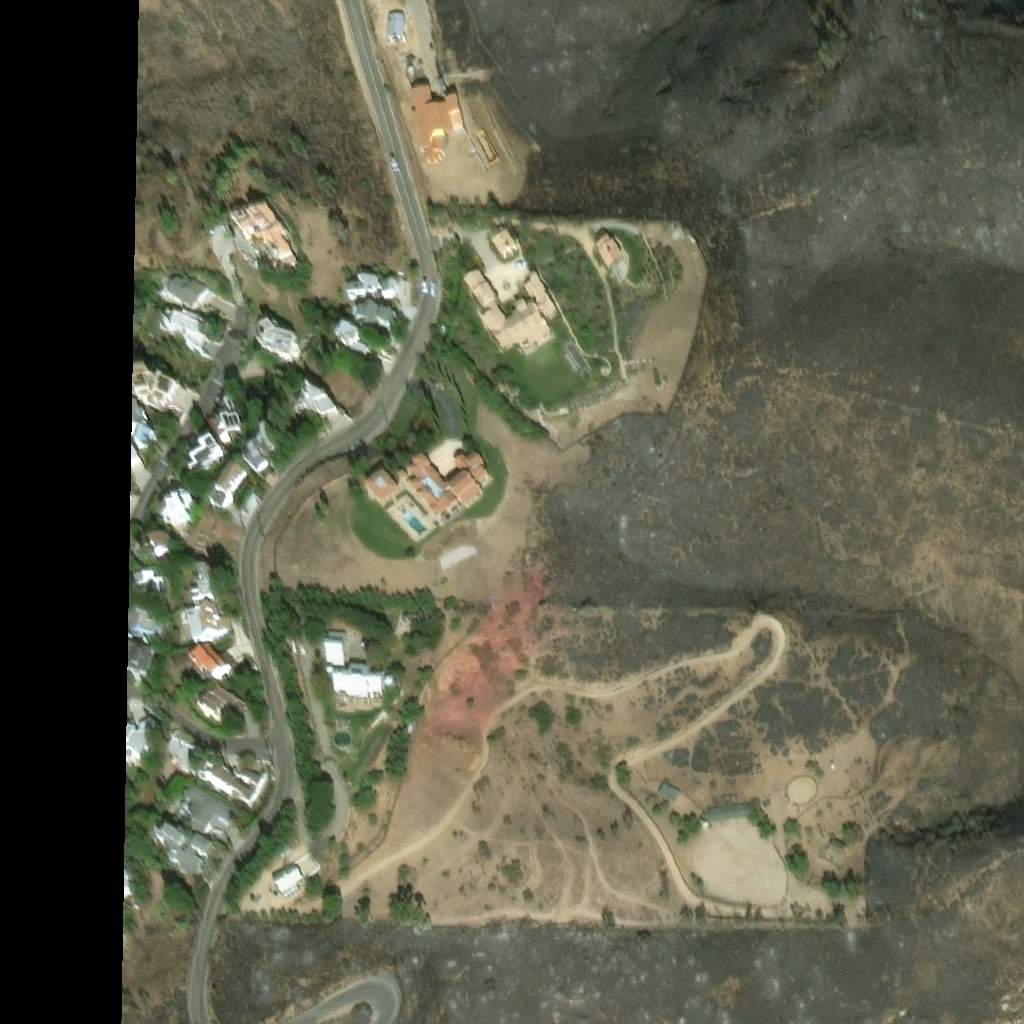0 no-damage: (463, 269, 559, 352), (407, 448, 487, 516), (409, 80, 463, 160), (229, 202, 293, 259), (181, 782, 235, 832), (129, 362, 179, 408), (161, 832, 212, 876), (243, 421, 284, 473), (165, 728, 207, 775), (184, 601, 233, 640), (162, 308, 213, 345), (209, 461, 245, 510), (204, 394, 244, 438), (335, 663, 383, 699), (255, 315, 298, 355), (187, 640, 231, 679), (200, 764, 252, 797), (123, 715, 162, 757), (198, 683, 246, 717), (188, 436, 224, 476), (182, 563, 217, 604), (352, 299, 396, 331), (167, 273, 206, 309), (161, 484, 195, 524), (298, 383, 337, 417), (270, 862, 304, 898), (366, 472, 401, 506), (346, 274, 399, 296), (336, 326, 370, 360), (124, 644, 153, 683), (128, 530, 170, 555), (704, 794, 755, 813), (132, 569, 166, 597), (489, 224, 518, 256), (596, 232, 622, 264), (130, 612, 161, 638), (325, 627, 345, 666), (128, 401, 148, 430), (388, 8, 403, 40), (134, 426, 155, 447), (655, 773, 677, 792), (824, 830, 845, 849), (238, 761, 259, 779), (120, 862, 132, 890), (128, 444, 140, 465), (395, 469, 409, 482), (695, 809, 706, 818)
4 un-classified: (236, 890, 256, 915), (400, 716, 411, 730)
